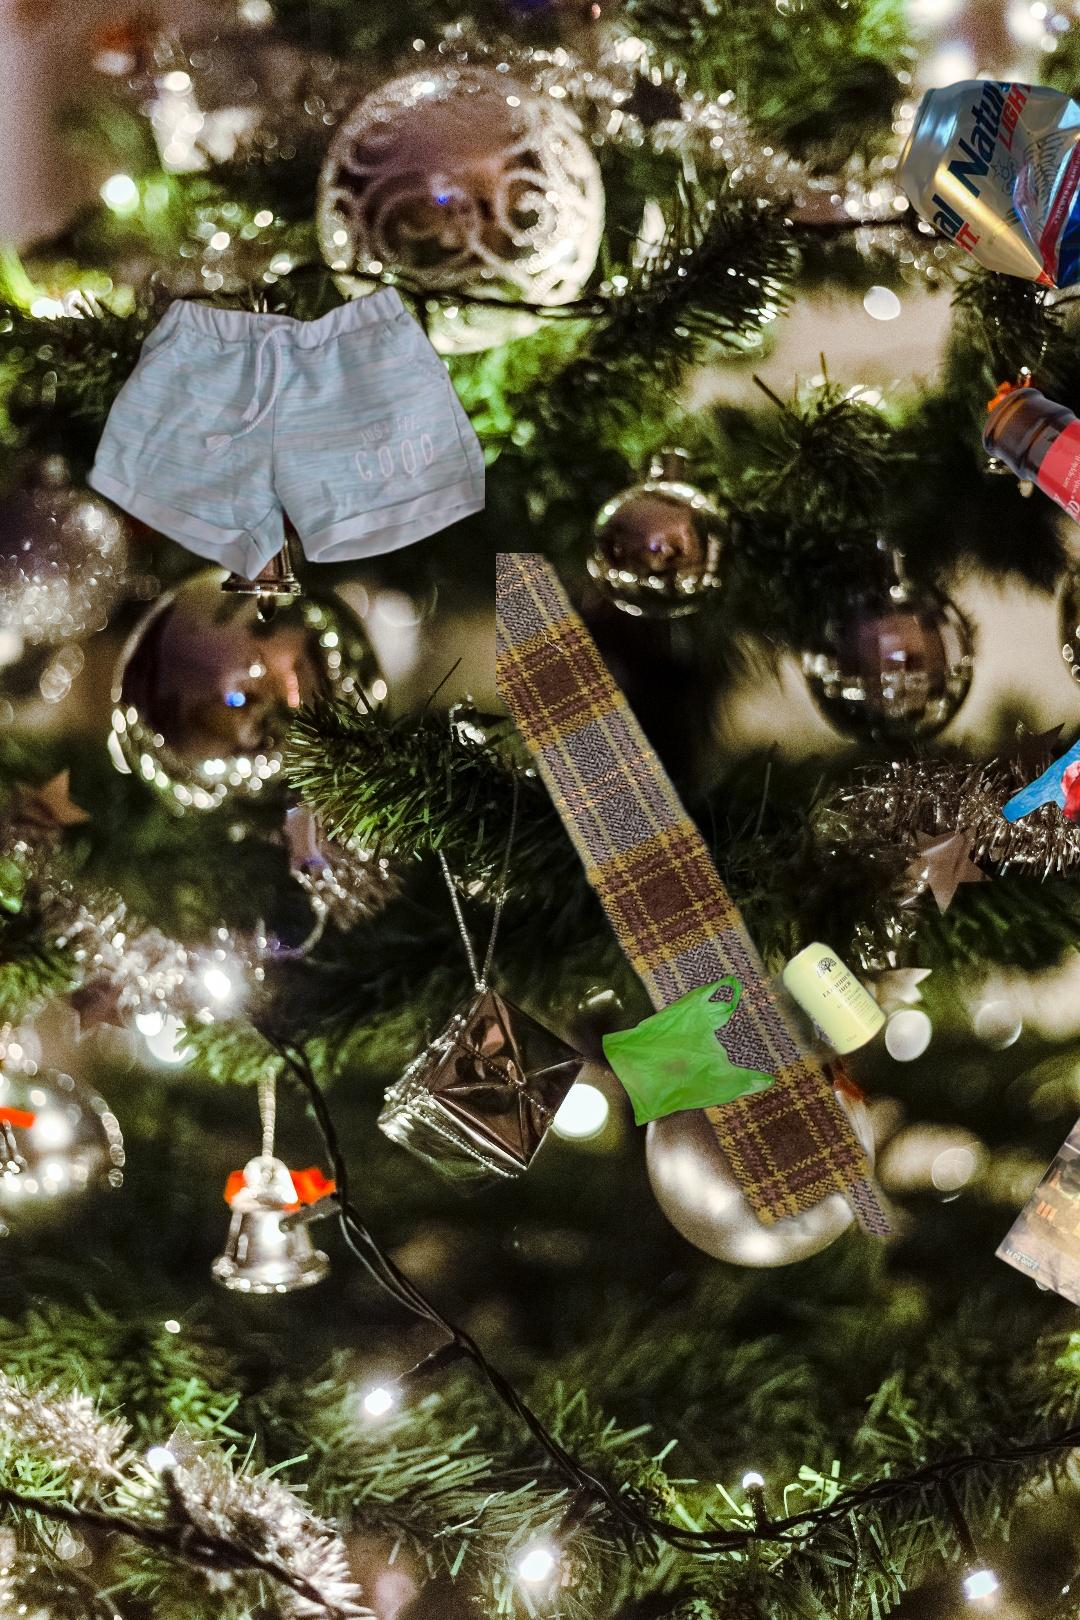clothes: (86, 278, 485, 586)
glass: (978, 385, 1080, 667)
metal-cans: (495, 553, 1008, 1235), (890, 76, 1080, 294)
paper: (990, 1011, 1080, 1343)
plastic-bag: (972, 636, 1080, 906), (599, 972, 779, 1129)
